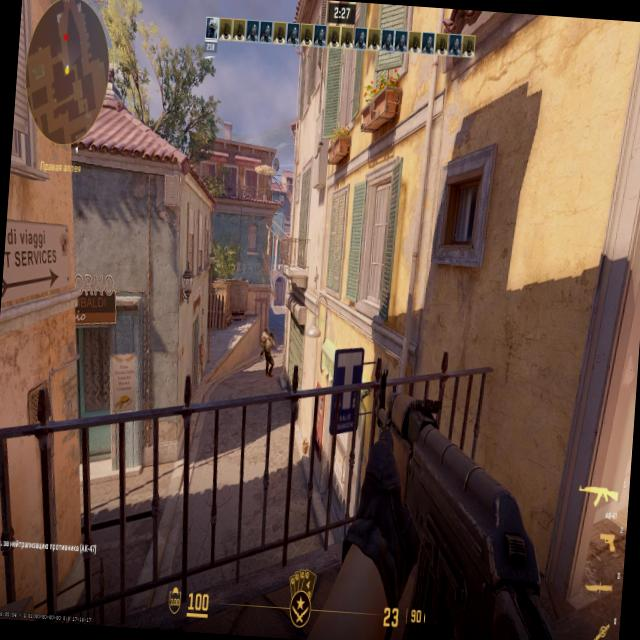T: (265, 334, 273, 372)
T_heat: (269, 336, 271, 344)
